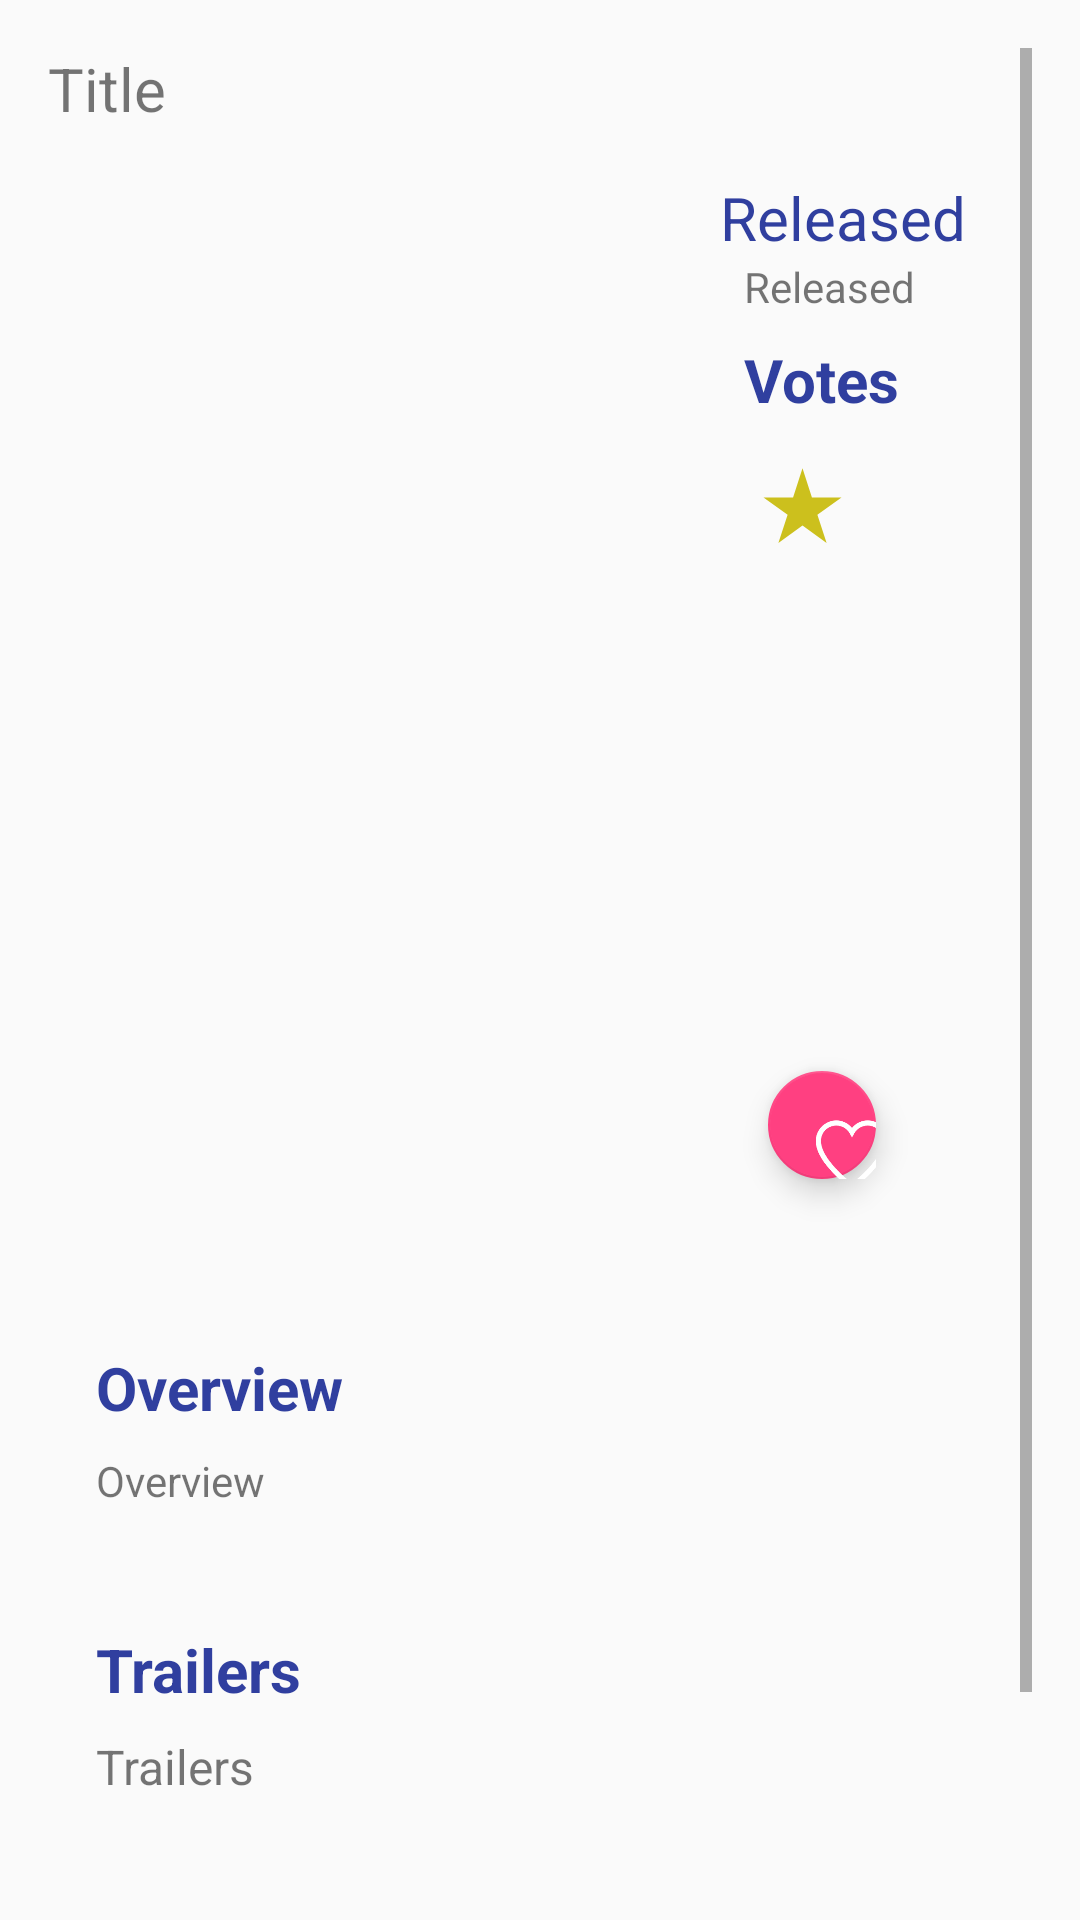

Where icons sit on this 1080x1920 app screen, as (x1, y1, x2, y2):
star rate: (764, 468, 841, 543)
